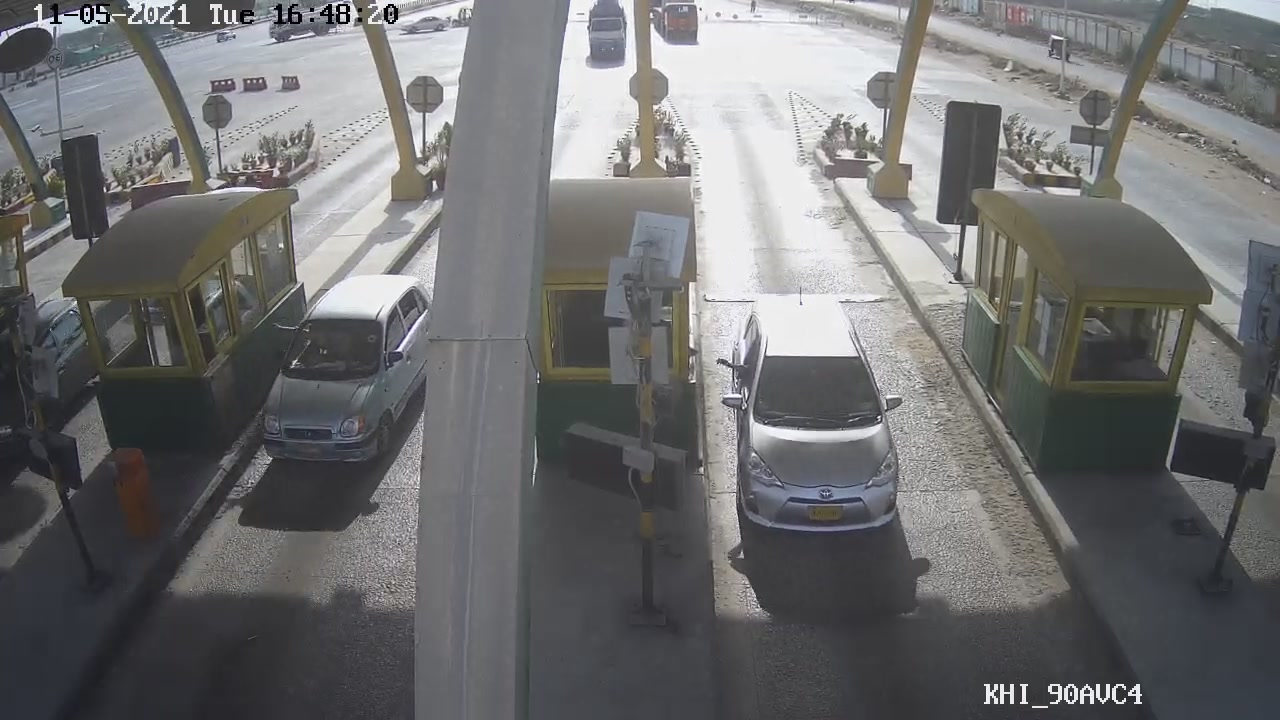F1: (720, 291, 913, 538)
